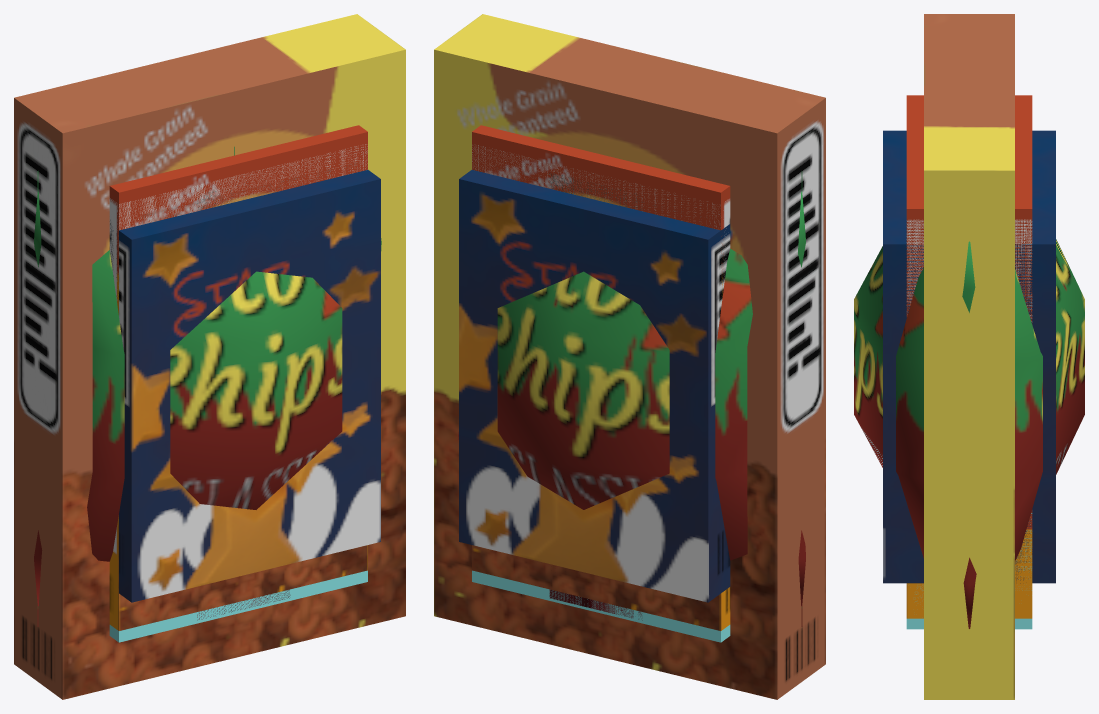
The model's file is Snackies.fbx.
3 renders of one model, left to right at view 1: azimuth 30°, elevation 25°; view 2: azimuth 150°, elevation 25°; view 3: azimuth 270°, elevation 25°, orthographic. The views are drawn at different scales.
Visible parts, largest first — view 1: Cereal_C, Cereal_B, Chips_A, Cereal_A, Milk_B; view 2: Cereal_C, Cereal_B, Chips_A, Cereal_A, Milk_B, Juice_C; view 3: Cereal_C, Chips_A, Cereal_B, Cereal_A, Milk_B.
Boxes of the visible parts, x1,y1,x2,y2 form: Cereal_C: [14, 14, 405, 699]; Cereal_B: [110, 170, 380, 602]; Chips_A: [34, 171, 381, 626]; Cereal_A: [109, 125, 367, 630]; Milk_B: [109, 144, 367, 642]; Cereal_C: [434, 14, 825, 699]; Cereal_B: [459, 170, 730, 602]; Chips_A: [458, 171, 805, 626]; Cereal_A: [472, 125, 730, 630]; Milk_B: [472, 145, 730, 642]; Juice_C: [549, 173, 642, 620]; Cereal_C: [924, 14, 1014, 699]; Chips_A: [854, 239, 1084, 628]; Cereal_B: [883, 130, 1055, 583]; Cereal_A: [906, 95, 1032, 618]; Milk_B: [906, 219, 1032, 629].
Size of the model in its own units: 0.2746 by 0.422 by 0.1668.
